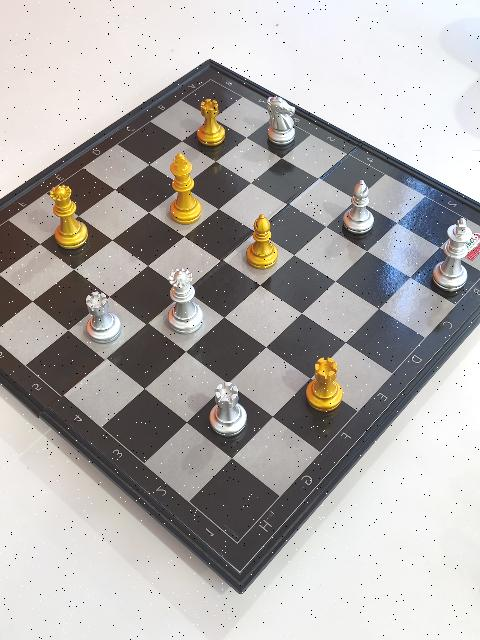black_bishop: (245, 214, 279, 273)
black_king: (169, 154, 201, 225)
black_queen: (49, 183, 88, 251)
black_rook: (305, 356, 343, 416), (196, 99, 227, 148)
white_bishop: (342, 179, 374, 236)
white_king: (433, 219, 474, 291)
white_knight: (265, 94, 298, 148)
white_queen: (167, 268, 202, 335)
white_rook: (208, 381, 247, 440), (85, 290, 120, 343)
